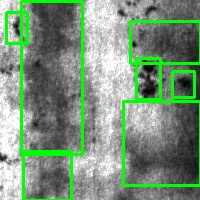inclusion: (136, 58, 160, 99), (6, 12, 27, 43), (172, 71, 194, 97)
patches: (21, 1, 82, 154), (123, 101, 200, 185), (130, 21, 200, 63), (23, 151, 71, 200)
